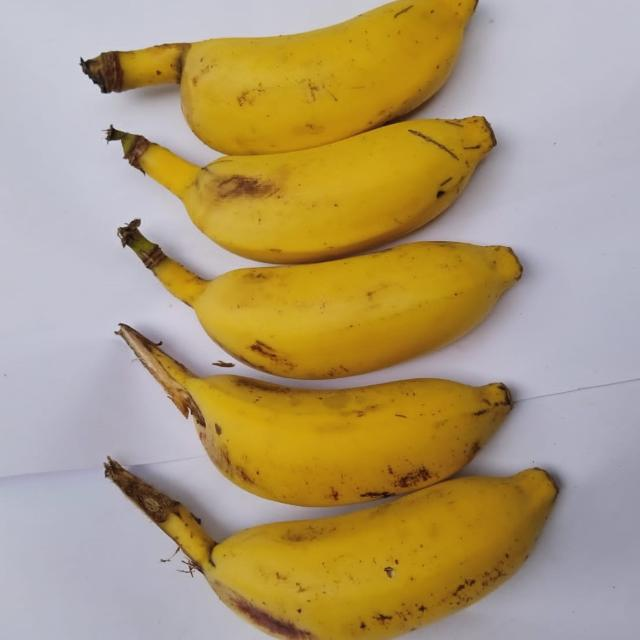banana: (106, 459, 557, 639), (118, 325, 511, 506), (119, 220, 521, 379), (82, 0, 477, 154), (108, 117, 495, 263)
